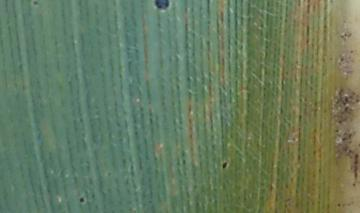tarspot: (153, 1, 170, 11), (220, 160, 228, 170), (78, 195, 85, 205), (353, 153, 359, 164), (338, 53, 344, 64), (343, 105, 350, 113), (343, 95, 349, 104), (335, 201, 341, 208), (351, 181, 357, 188), (340, 136, 347, 142), (31, 1, 39, 6), (348, 48, 354, 54), (346, 148, 352, 154), (333, 128, 339, 133), (336, 119, 342, 124)
